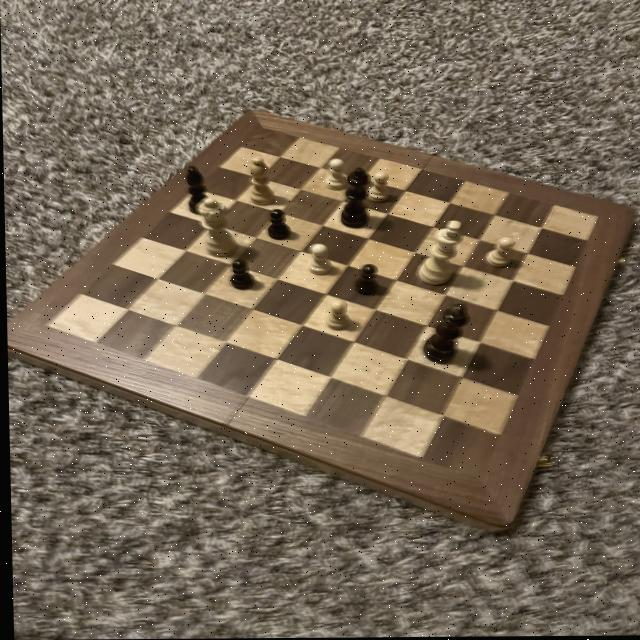bishop: (179, 161, 215, 215)
black-bishop: (417, 301, 472, 367)
black-knight: (260, 207, 295, 243), (225, 257, 257, 292), (355, 264, 382, 297)
black-pawn: (333, 165, 374, 228)
black-rook: (242, 155, 279, 205)
white-bishop: (409, 216, 467, 290)
white-knight: (302, 240, 336, 282), (479, 236, 519, 269), (319, 297, 357, 330), (320, 156, 351, 194), (366, 172, 392, 204)
white-pawn: (195, 196, 238, 256)
